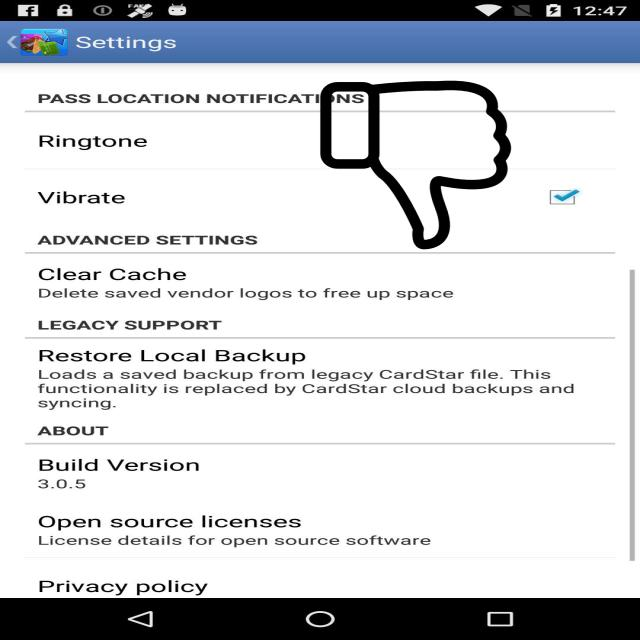obstruction: (317, 81, 514, 249)
